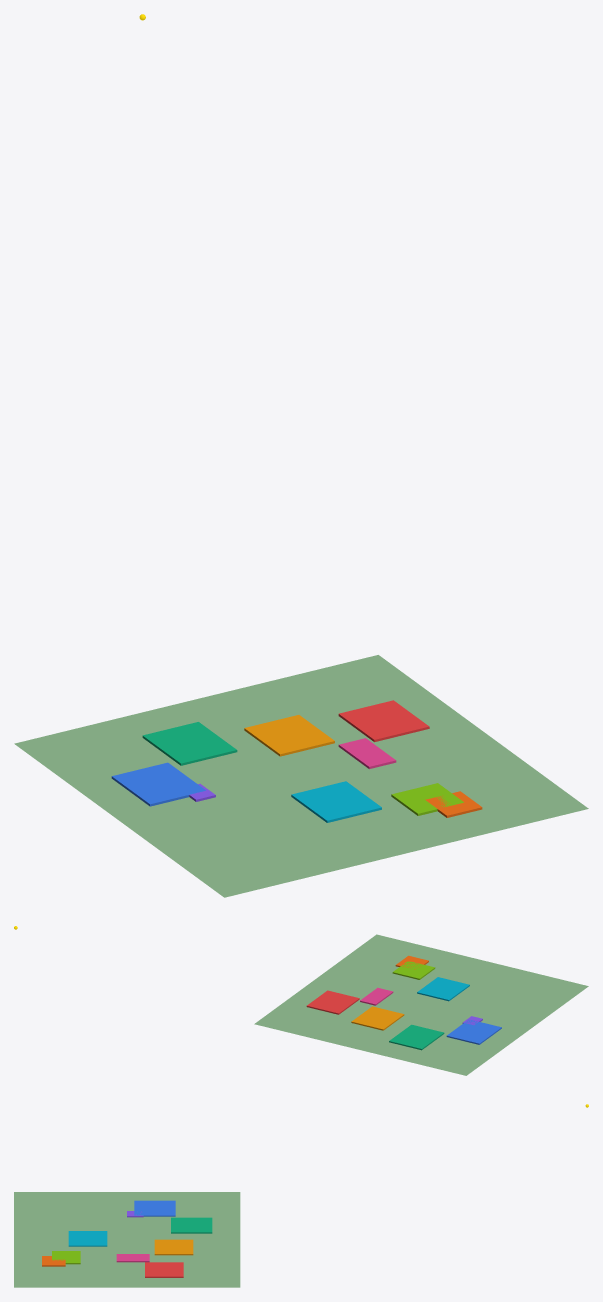
File: building-model-2026-01-10.gltf
3 renders of one model, top to bottom at view 1: azimuth 30°, elevation 25°; view 2: azimuth 150°, elevation 25°; view 3: azimuth 270°, elevation 25°, orthographic. The views are drawn at different scales.
Size of the model in its own units: 2490 by 2009 by 5079.
